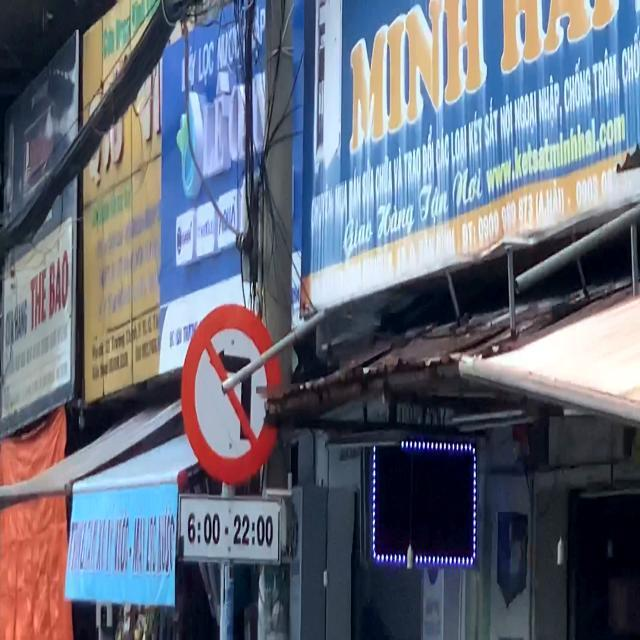123a-cam-re-trai: (179, 303, 283, 483)
